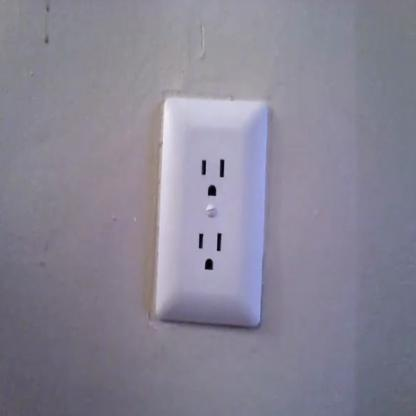OUTLET: (160, 99, 262, 324)
